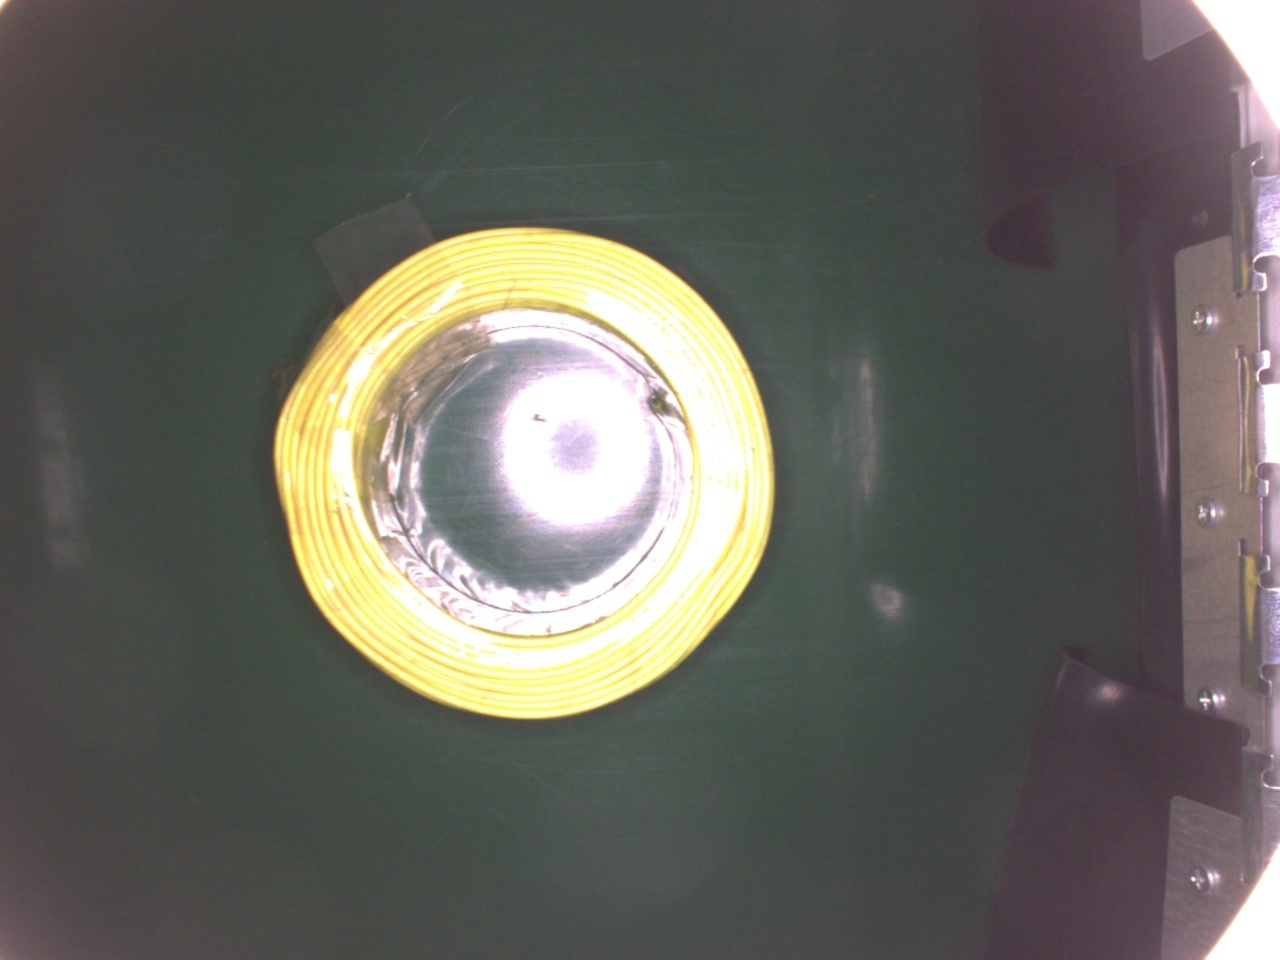yellow: (276, 221, 778, 722)
